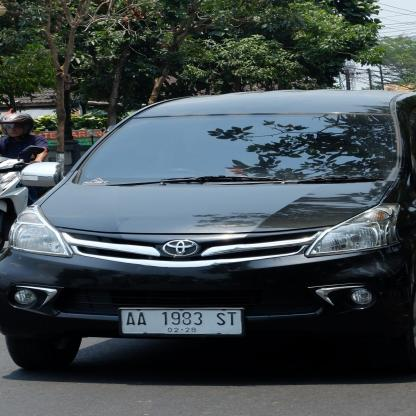Plat-Nomor: (116, 304, 251, 338)
